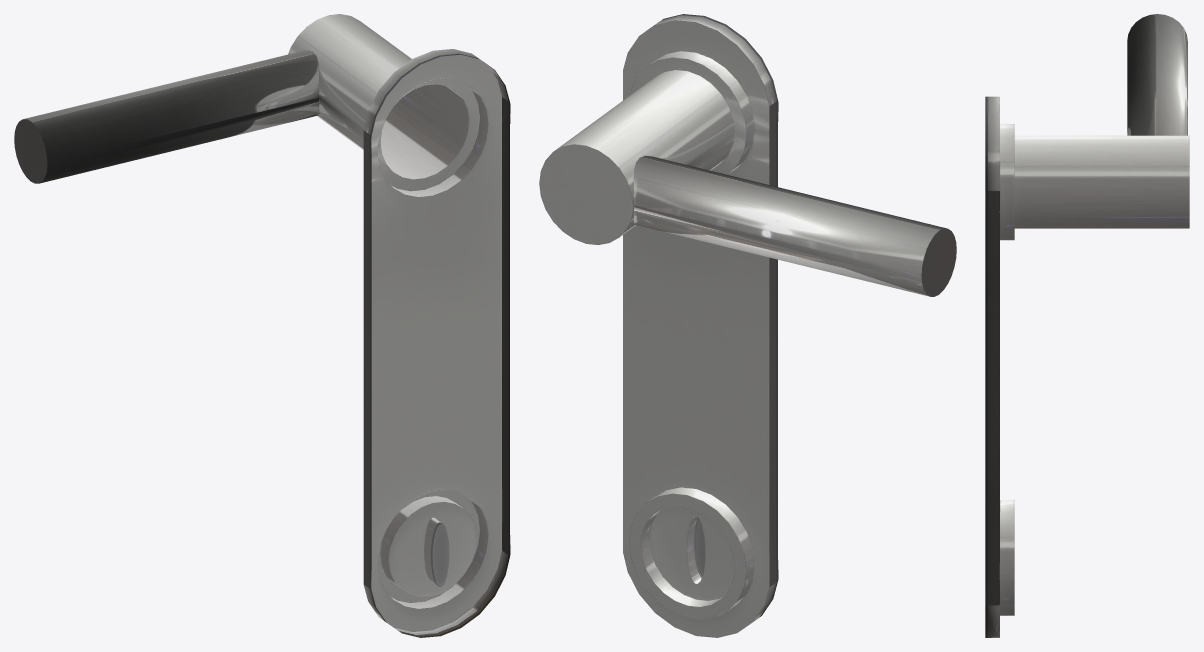
Rendered from handle.glb.
The picture shows the model from 3 angles, left to right: view 1: azimuth 30°, elevation 25°; view 2: azimuth 150°, elevation 25°; view 3: azimuth 270°, elevation 25°; orthographic projection. The views are drawn at different scales.
Parts seen in each view (by area): view 1: handle_Baked; view 2: handle_Baked; view 3: handle_Baked.
Boxes of the visible parts, x1,y1,x2,y2 form: handle_Baked: (14,14,510,637); handle_Baked: (539,14,956,637); handle_Baked: (985,14,1189,637).
Bounding box in the file's own units: 0.1393 × 0.2 × 0.07.
1 material, 1 textured.
